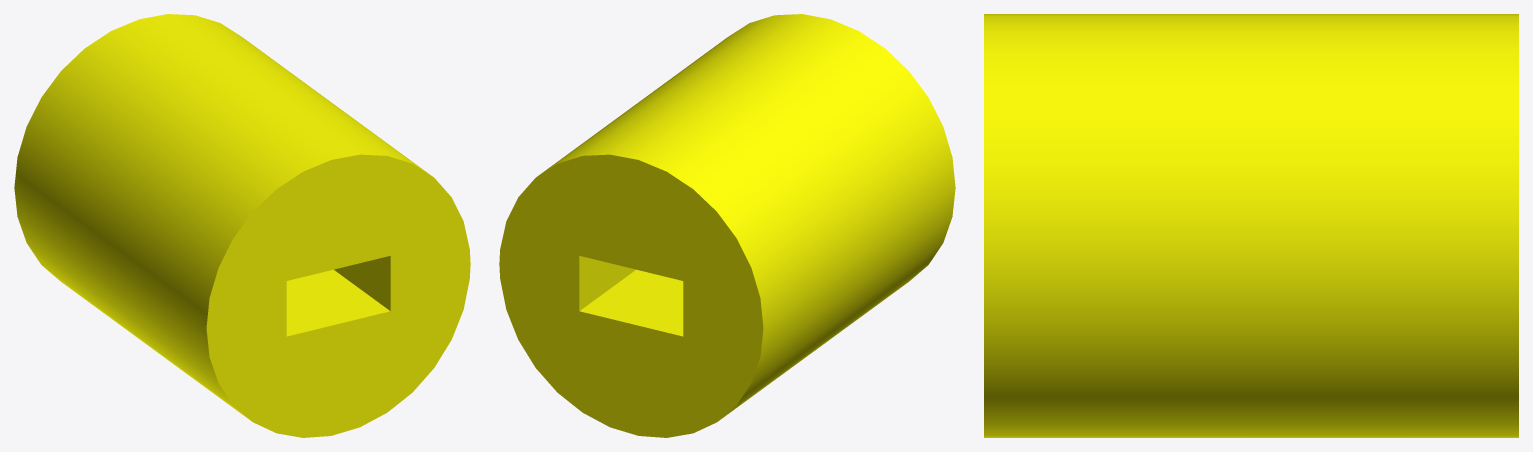
File: plastic.gltf
3 renders of one model, left to right at view 1: azimuth 30°, elevation 25°; view 2: azimuth 150°, elevation 25°; view 3: azimuth 270°, elevation 25°, orthographic. The views are drawn at different scales.
Parts seen in each view (by area): view 1: mesh89287, mesh89289, mesh89291, mesh89292; view 2: mesh89287, mesh89288, mesh89291, mesh89292; view 3: mesh89287.
Part boxes in pixels (x1,y1,x2,y2): mesh89287: (14, 14, 432, 421); mesh89289: (206, 154, 470, 437); mesh89291: (286, 269, 389, 336); mesh89292: (334, 256, 390, 310); mesh89287: (537, 14, 955, 421); mesh89288: (499, 154, 763, 437); mesh89291: (580, 269, 683, 336); mesh89292: (579, 256, 635, 310); mesh89287: (984, 14, 1518, 437).
Size of the model in its own units: 0.00254 by 0.00254 by 0.0032.
